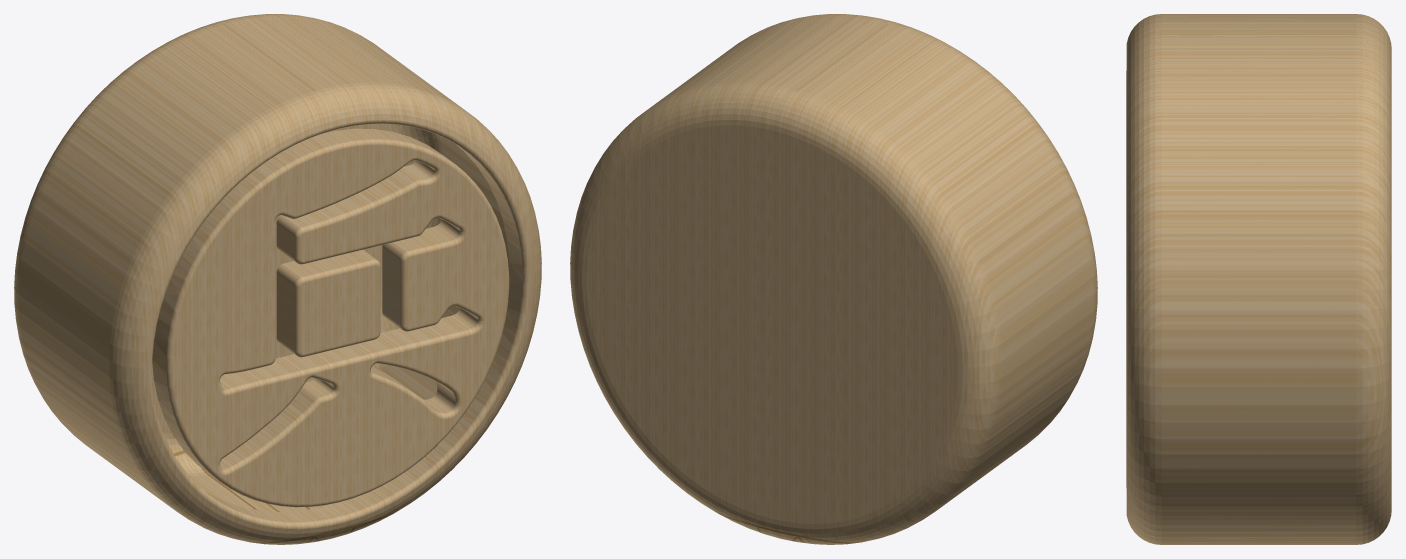
The model's file is h01_chess_red_soldier_wood.obj.
The picture shows the model from 3 angles, left to right: view 1: azimuth 30°, elevation 25°; view 2: azimuth 150°, elevation 25°; view 3: azimuth 270°, elevation 25°; orthographic projection. The views are drawn at different scales.
Bounding box in the file's own units: 0.03 × 0.03 × 0.015.
1 material, 1 textured.
